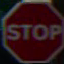Stop: (2, 7, 62, 52)
